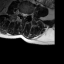CCS_normal: (23, 11, 25, 21)
LFS_stenosis: (27, 11, 29, 17)
LLS_normal: (25, 11, 27, 19)
RFS_normal: (19, 9, 21, 17)
RLS_normal: (21, 10, 23, 18)
